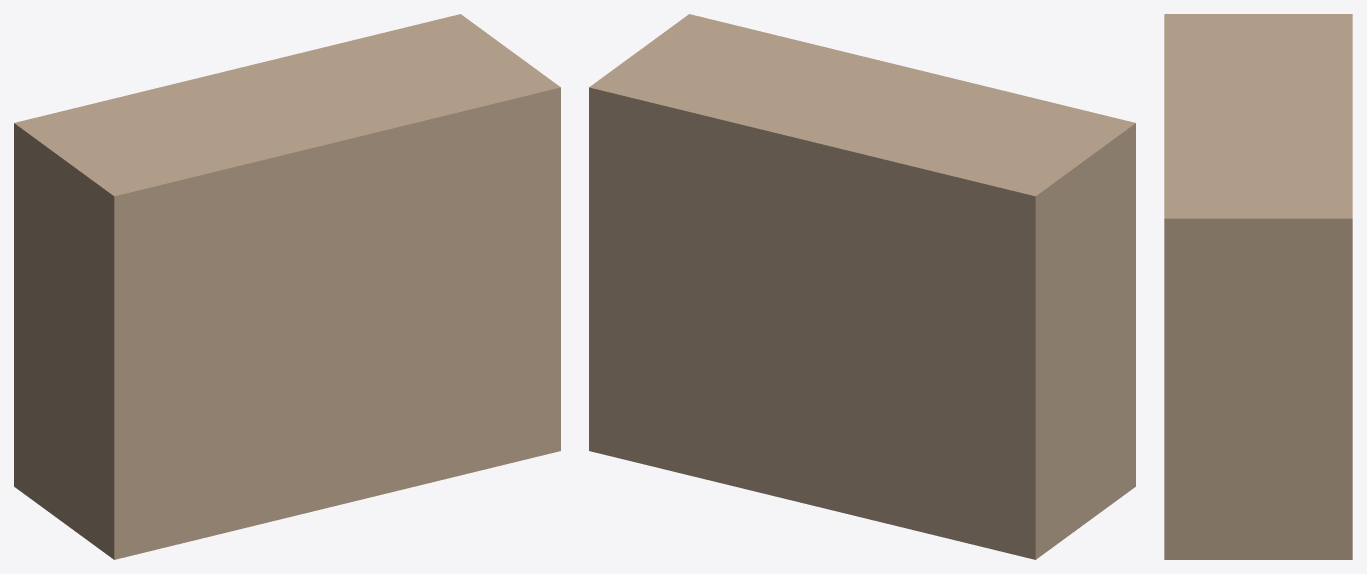
Rendered from kit_wall_090.glb.
3 views of the same model, side by side, from view 1: azimuth 30°, elevation 25°; view 2: azimuth 150°, elevation 25°; view 3: azimuth 270°, elevation 25° (orthographic). The views are drawn at different scales.
Visible parts, largest first — view 1: kit_wall_090; view 2: kit_wall_090; view 3: kit_wall_090.
Boxes of the visible parts, box(x1,y1,x2,y2) form: kit_wall_090: box(14, 14, 560, 559); kit_wall_090: box(589, 14, 1135, 559); kit_wall_090: box(1164, 14, 1352, 559).
Size of what is drawn, in the model's own units: 0.9 by 0.7 by 0.35.
